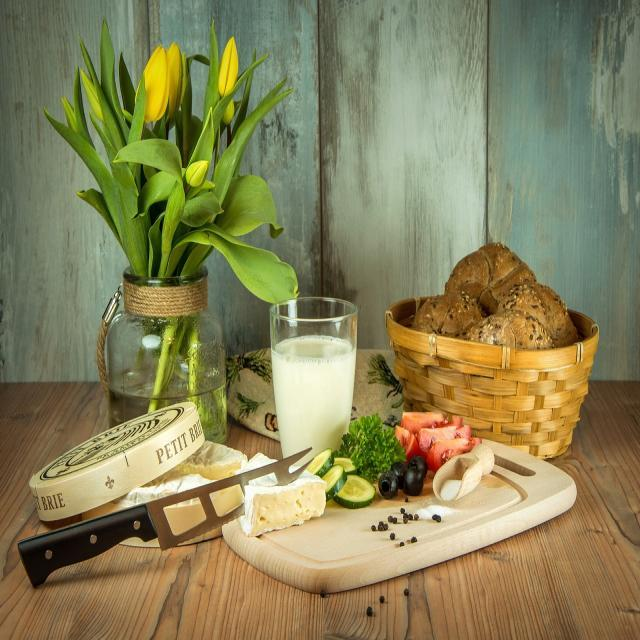Knife: (19, 449, 310, 586)
